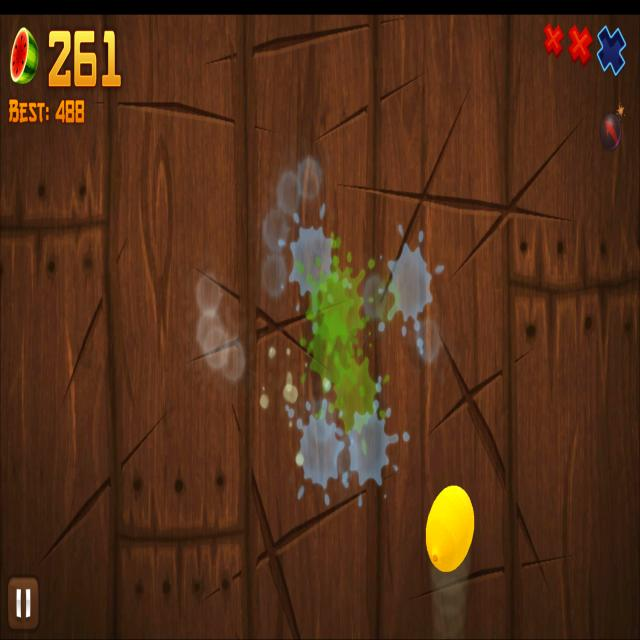fruit: (424, 484, 474, 574)
